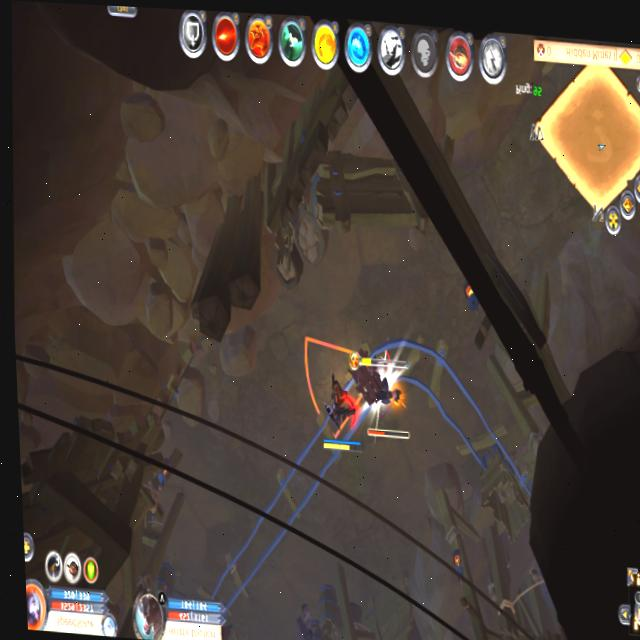ore: (356, 339, 415, 445), (291, 596, 319, 640), (209, 609, 237, 640)
red: (317, 372, 364, 455)
silver: (300, 337, 367, 432)
